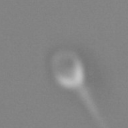normal: (76, 87, 106, 128)
